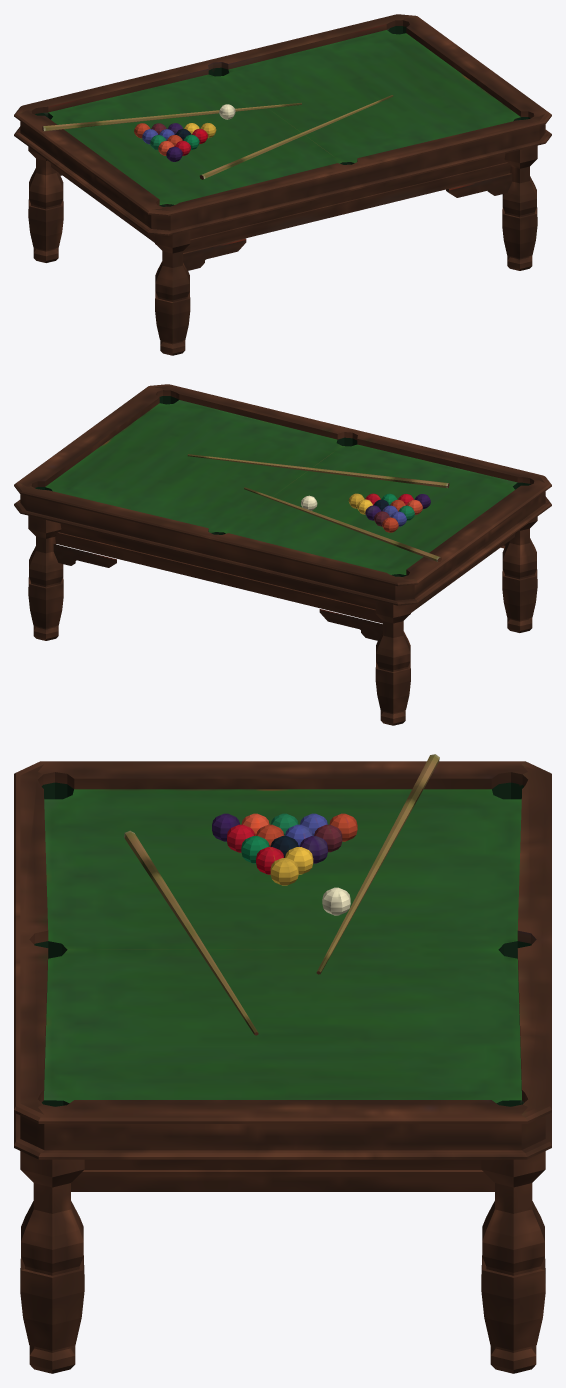
The model's file is E_PoolTable.fbx.
The picture shows the model from 3 angles, top to bottom: view 1: azimuth 30°, elevation 25°; view 2: azimuth 150°, elevation 25°; view 3: azimuth 270°, elevation 25°; orthographic projection. The views are drawn at different scales.
Visible parts, largest first — view 1: Cube.060; view 2: Cube.060; view 3: Cube.060.
Part boxes in pixels (x1=…): Cube.060: x1=14, y1=14, x2=551, y2=355; Cube.060: x1=14, y1=384, x2=551, y2=725; Cube.060: x1=14, y1=754, x2=551, y2=1373.
Size of the model in its own units: 684 by 253 by 433.
